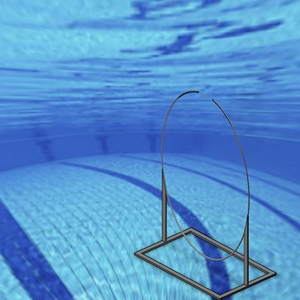circle: (136, 89, 275, 299)
